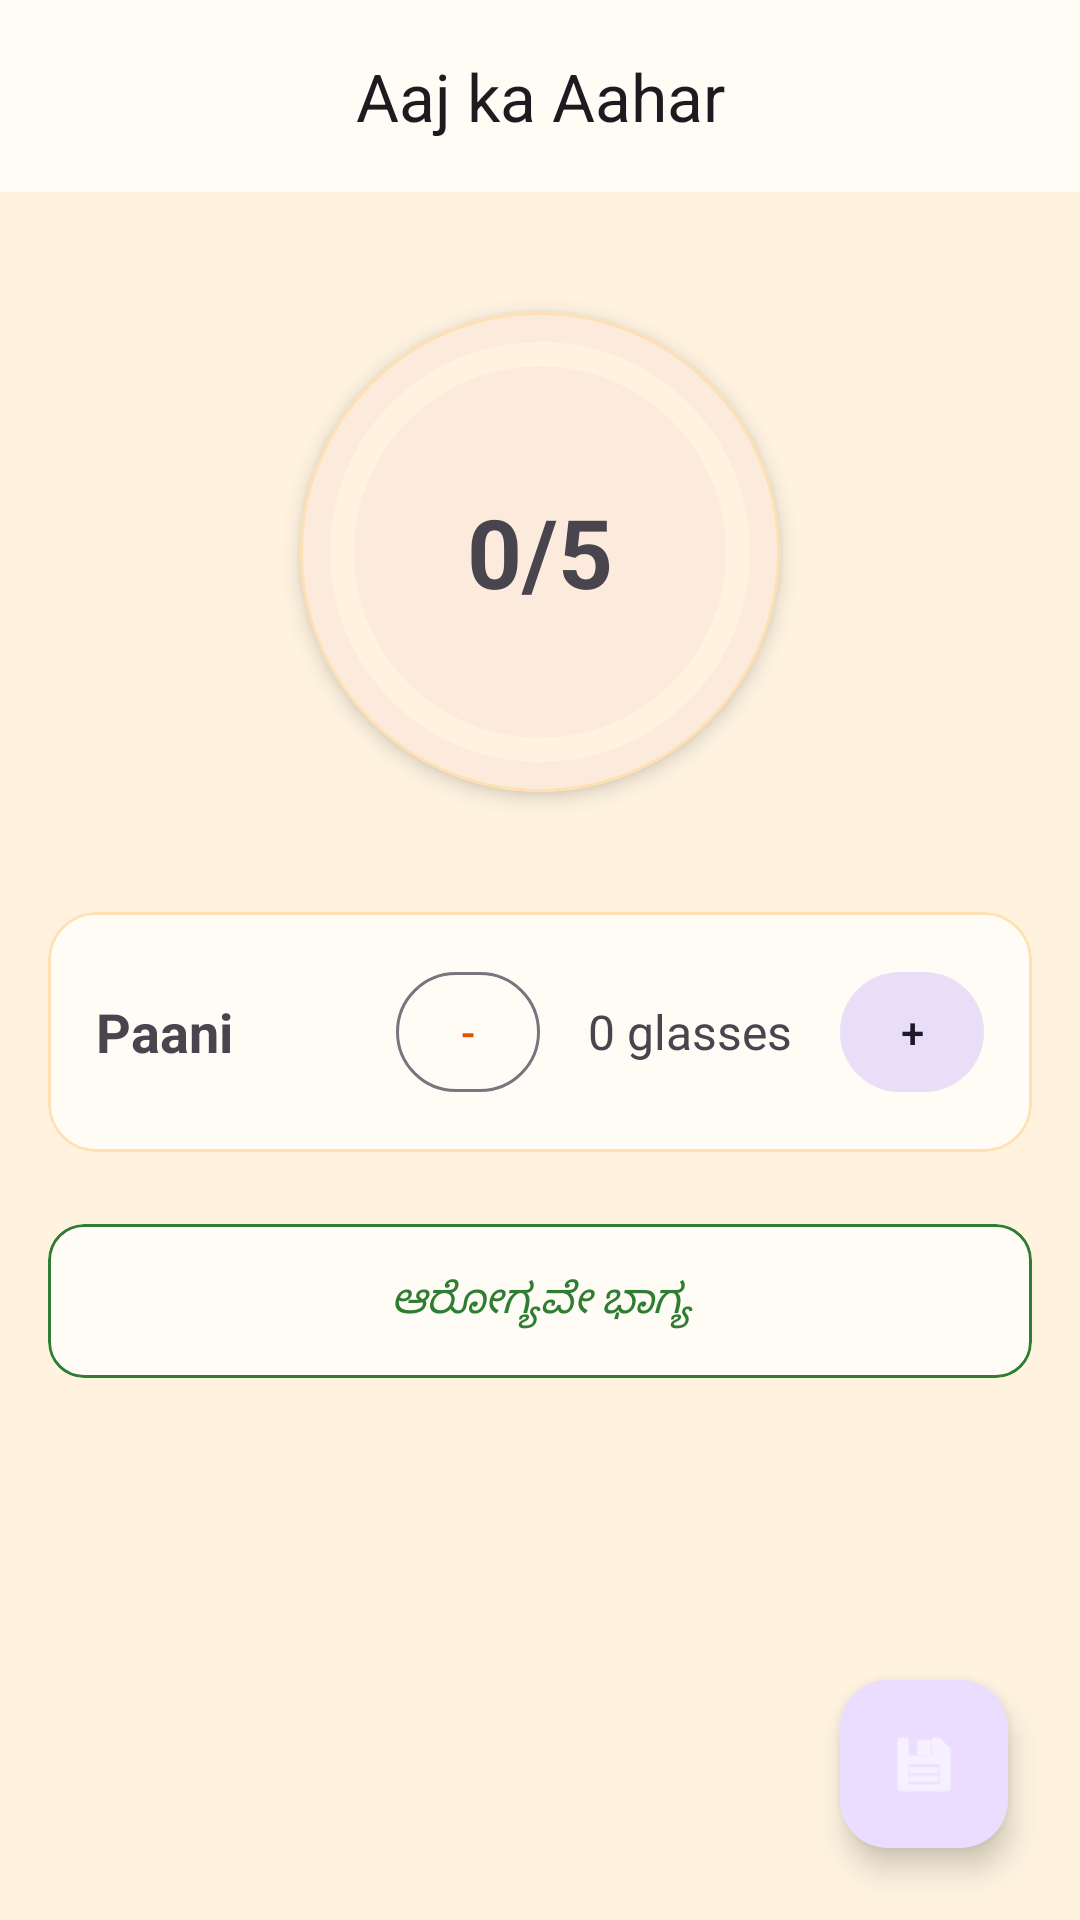

Point at icon controls on the screen. Image size 1080x1920, points as point (x, y).
save: point (924, 1764)
